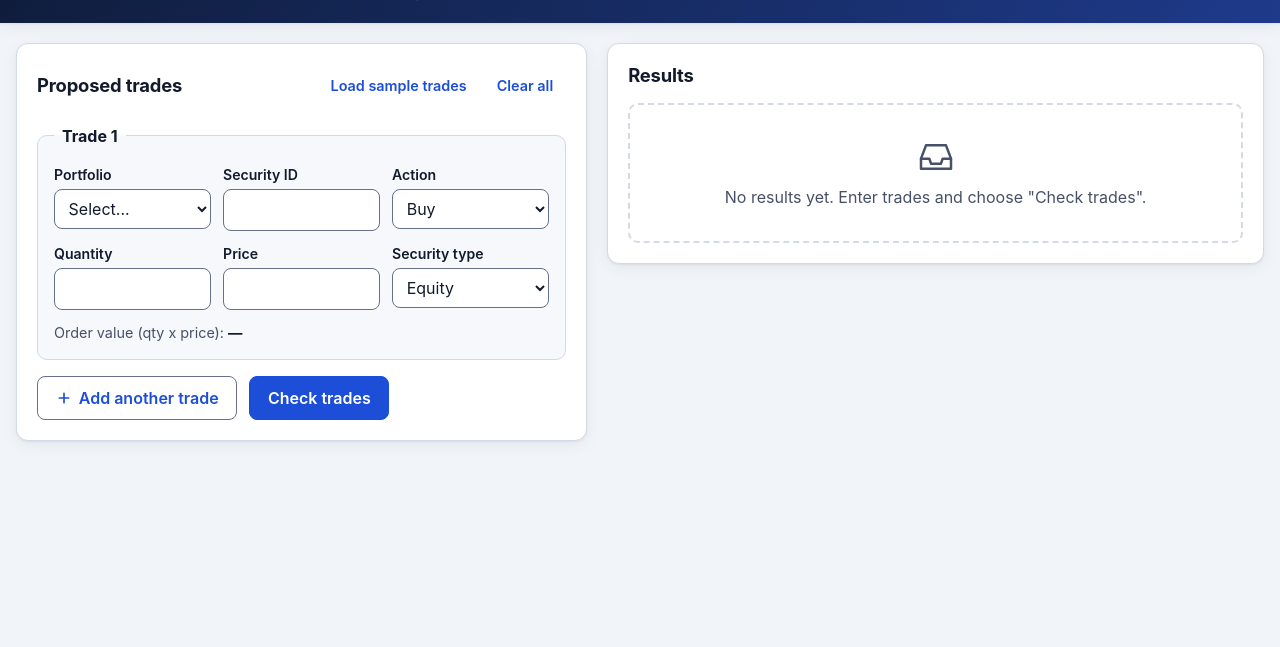
Test: sample loader and reset › clearAll_resetsToOneEmptyRow_andClearsResults
Click the button "Load sample trades" at (399, 86), box x1=318 y1=64 x2=480 y2=108
(page scrolled)
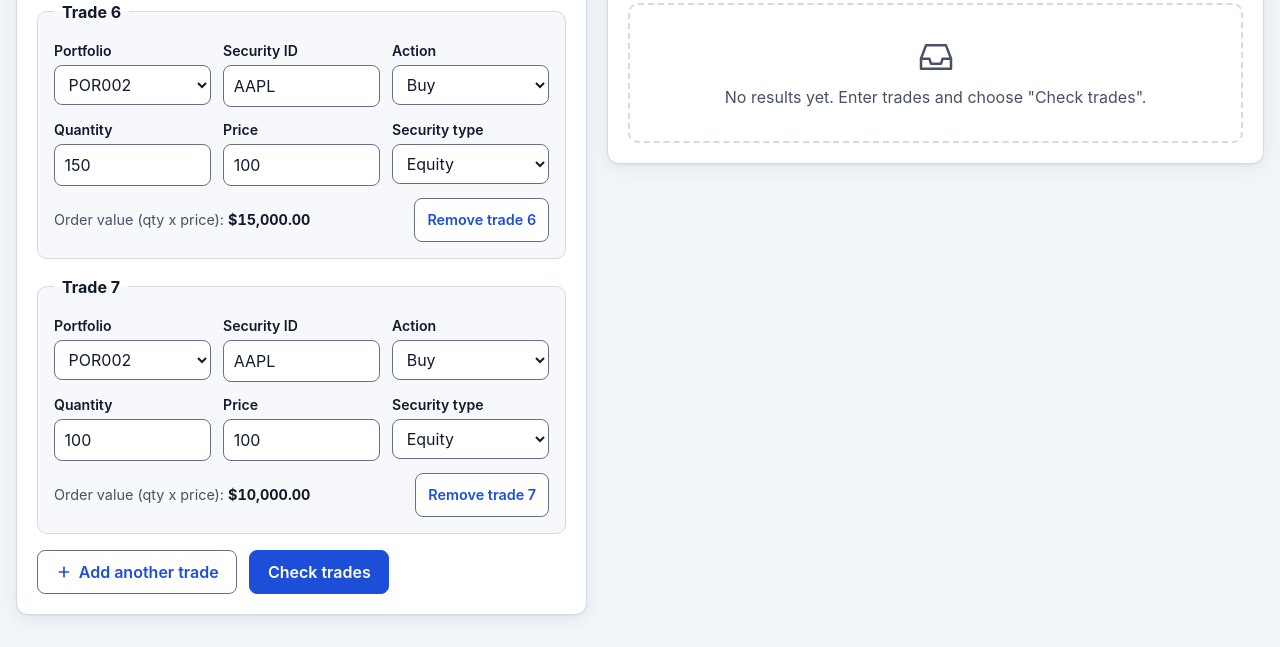
Click the button "Check trades" at (319, 572), box x1=249 y1=550 x2=389 y2=594
(page scrolled)
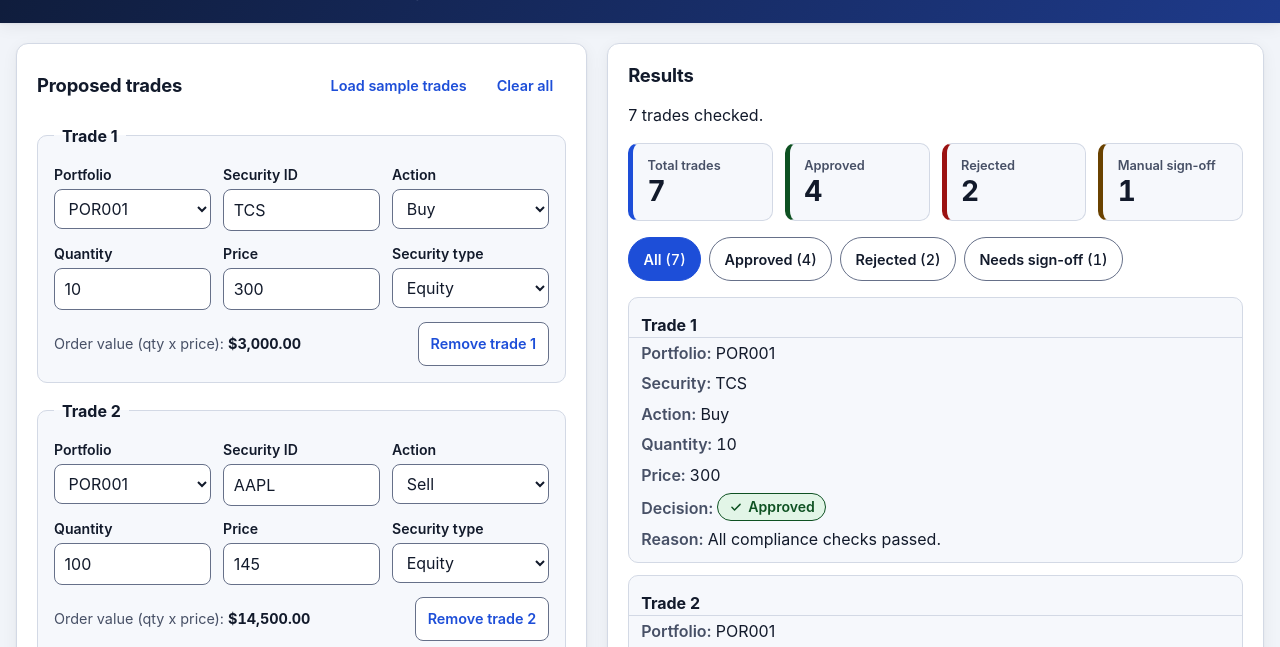
Click the button "Clear all" at (525, 86), box x1=484 y1=64 x2=566 y2=108
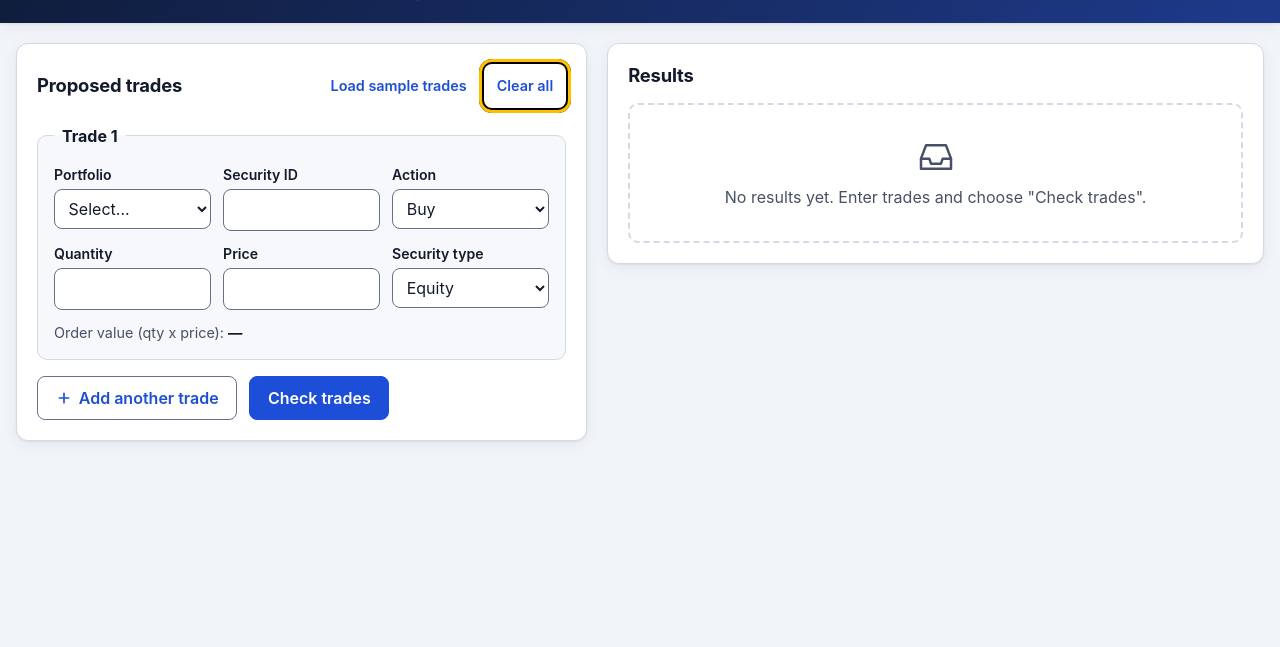
Now the number of fields labelled "Security ID" is 1, box x1=223 y1=189 x2=380 y2=231
Now the field labelled "Security ID" is empty, box x1=223 y1=189 x2=380 y2=231
Now the text "No results yet. Enter trades and choose \"Check trades\"." is shown, box x1=725 y1=185 x2=1146 y2=209
